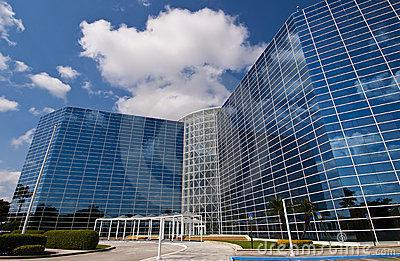affected: (0, 0, 400, 249)
